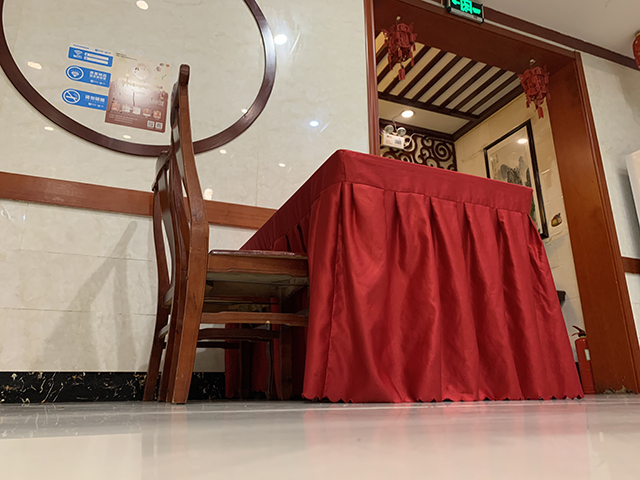stool: (156, 63, 309, 405), (141, 149, 278, 403)
table: (220, 148, 588, 406)
